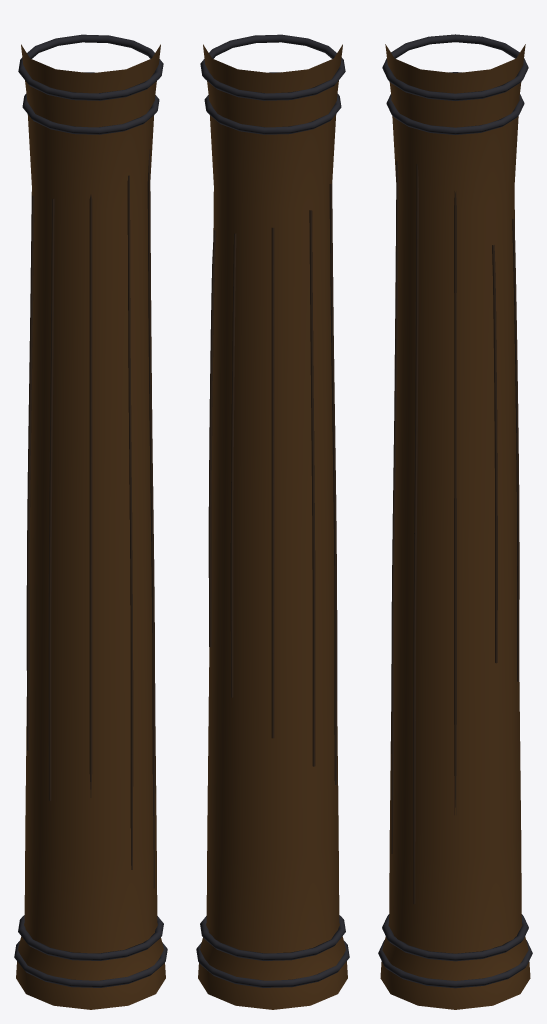
File: mia-pillar.glb
3 views of the same model, side by side, from view 1: azimuth 30°, elevation 25°; view 2: azimuth 150°, elevation 25°; view 3: azimuth 270°, elevation 25° (orthographic).
Parts seen in each view (by area): view 1: Body_wood, Body_grain, Body_iron; view 2: Body_wood, Body_grain, Body_iron; view 3: Body_wood, Body_grain, Body_iron.
Part boxes in pixels (x1,y1,x2,y2): Body_wood: [16, 44, 165, 1009]; Body_grain: [26, 149, 155, 888]; Body_iron: [14, 34, 167, 987]; Body_wood: [198, 44, 347, 1009]; Body_grain: [208, 184, 337, 784]; Body_iron: [196, 34, 349, 987]; Body_wood: [380, 44, 530, 1009]; Body_grain: [391, 161, 519, 904]; Body_iron: [378, 34, 532, 988].
Bounding box in the file's own units: 0.448 × 2.98 × 0.448.
